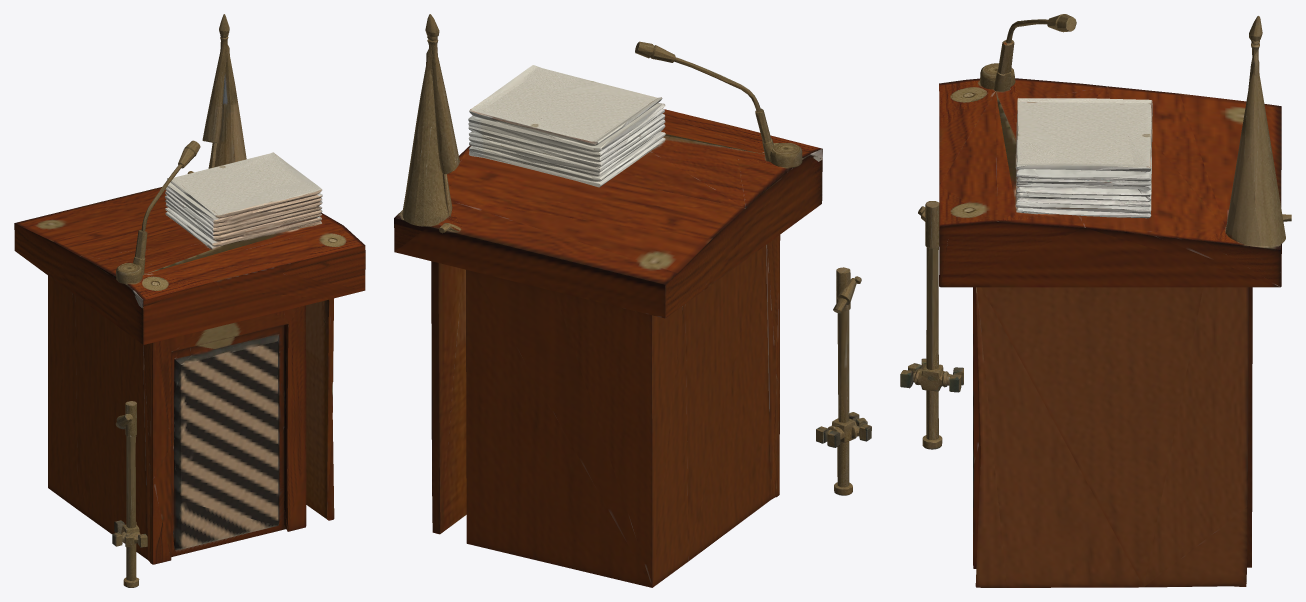
3 views of the same model, side by side, from view 1: azimuth 30°, elevation 25°; view 2: azimuth 150°, elevation 25°; view 3: azimuth 270°, elevation 25° (orthographic). The views are drawn at different scales.
Size of the model in its own units: 1.19 by 1.9 by 1.18.
Materials: 1 (1 with a texture image).
